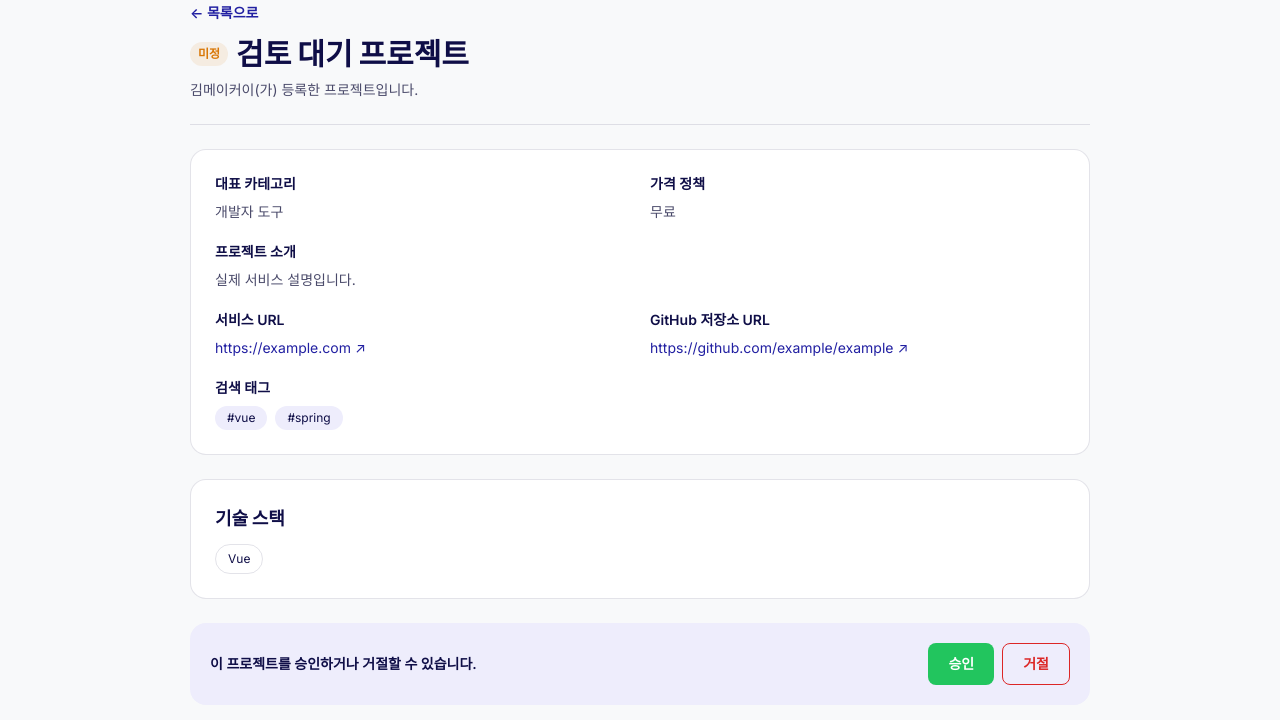
it: AdminProjectDetailView › approves the project and shows a confirmation message
The image size is (1280, 720).
Click the button "승인" at (961, 664), box [928,643,994,685]
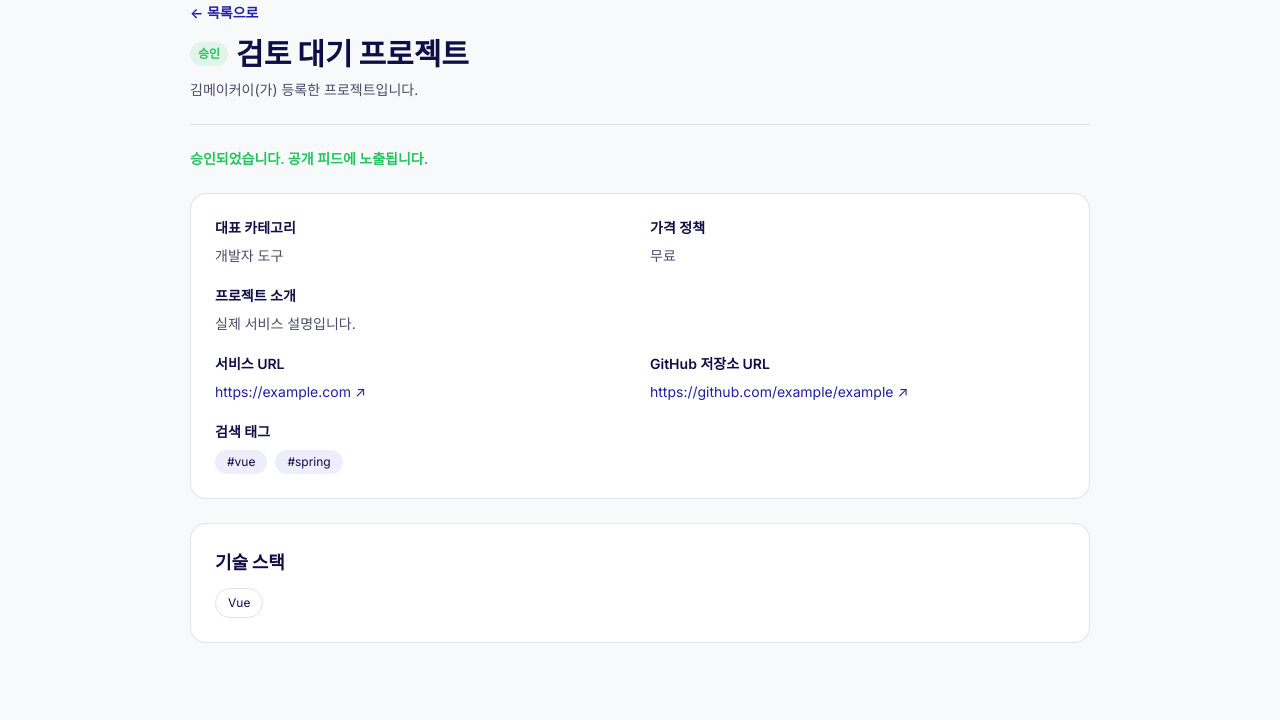
Check: the message "승인되었습니다. 공개 피드에 노출됩니다." is shown, box [190,150,428,167]
